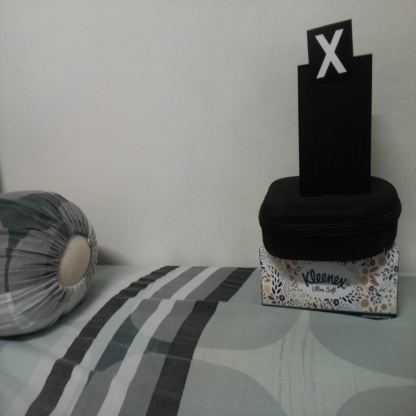id_13: (306, 27, 353, 83)
